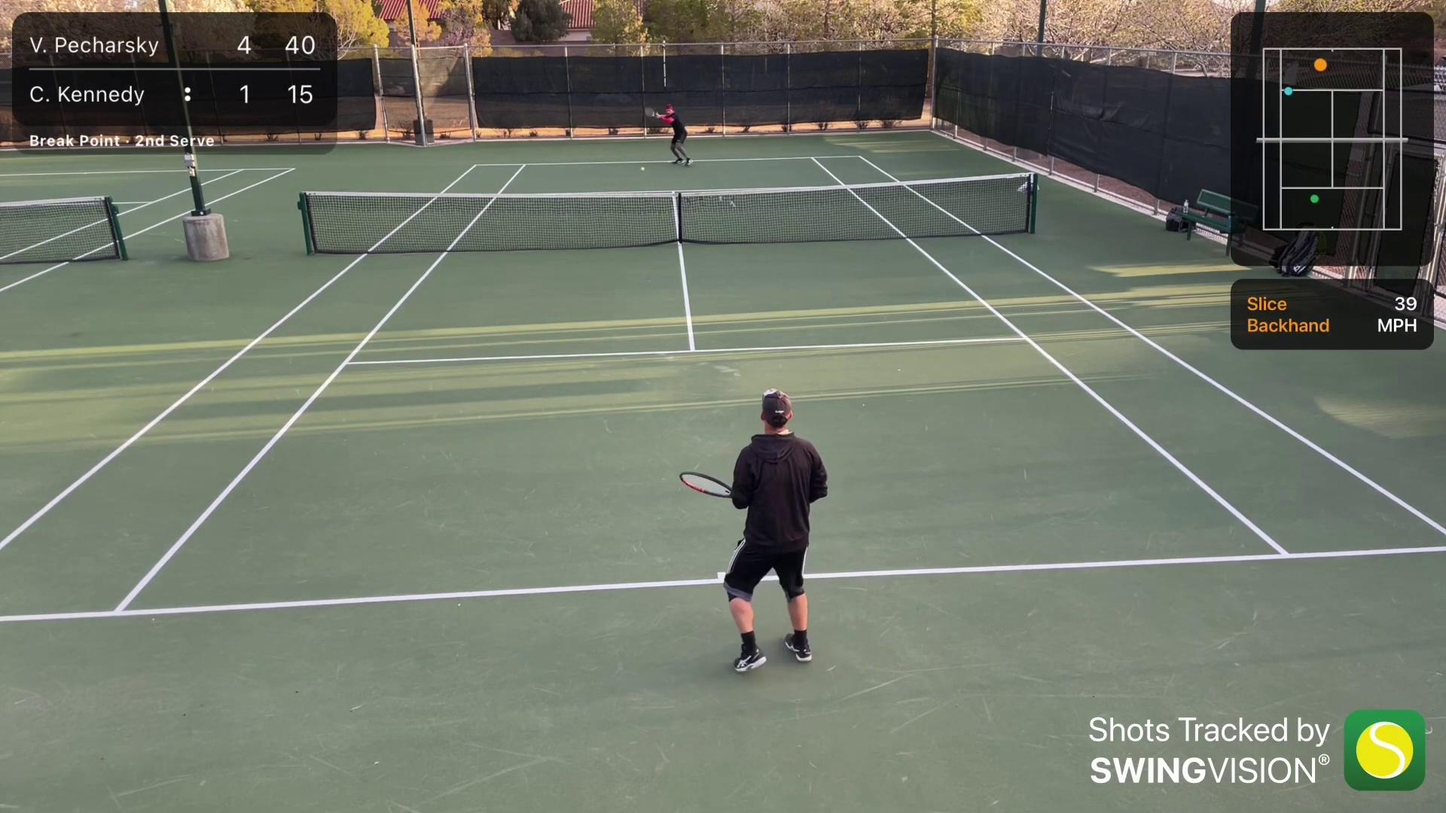ball: (638, 165, 647, 172)
